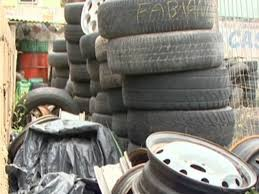tire: (108, 21, 224, 80), (124, 66, 230, 114), (8, 87, 81, 155), (123, 102, 236, 145), (102, 1, 214, 39)
